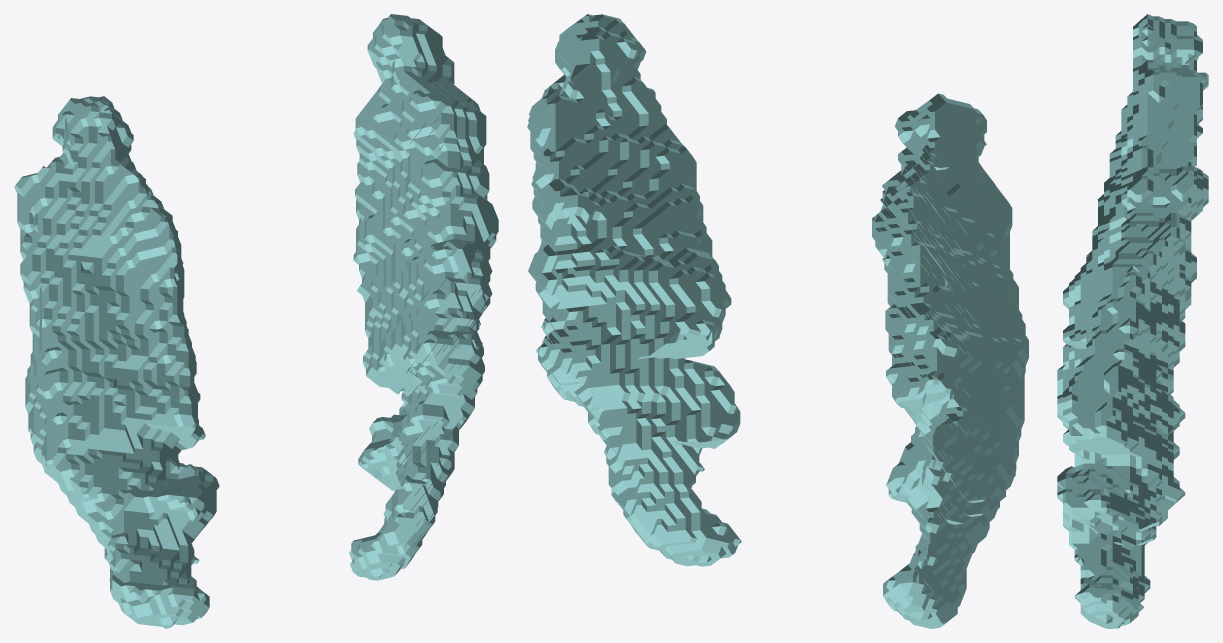
Rendered from region_0156_TTBr__uncrossed_tecto-bulbar_tract_.glb.
The picture shows the model from 3 angles, left to right: view 1: azimuth 30°, elevation 25°; view 2: azimuth 150°, elevation 25°; view 3: azimuth 270°, elevation 25°; orthographic projection. The views are drawn at different scales.
Parts seen in each view (by area): view 1: world; view 2: world; view 3: world.
Boxes of the visible parts, left/top/right/bottom form: world: left=14, top=14, right=498, bottom=628; world: left=527, top=14, right=1028, bottom=628; world: left=1057, top=14, right=1208, bottom=628.
Bounding box in the file's own units: 0.672 × 0.736 × 0.208.
